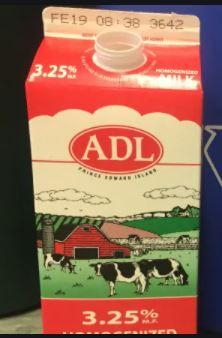cardboard: (26, 7, 203, 297)
